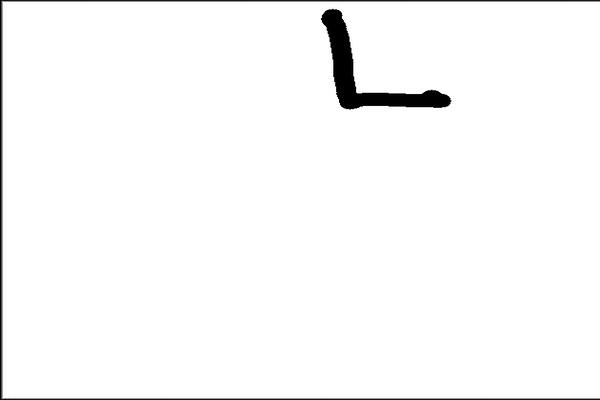L: (317, 4, 455, 119)
